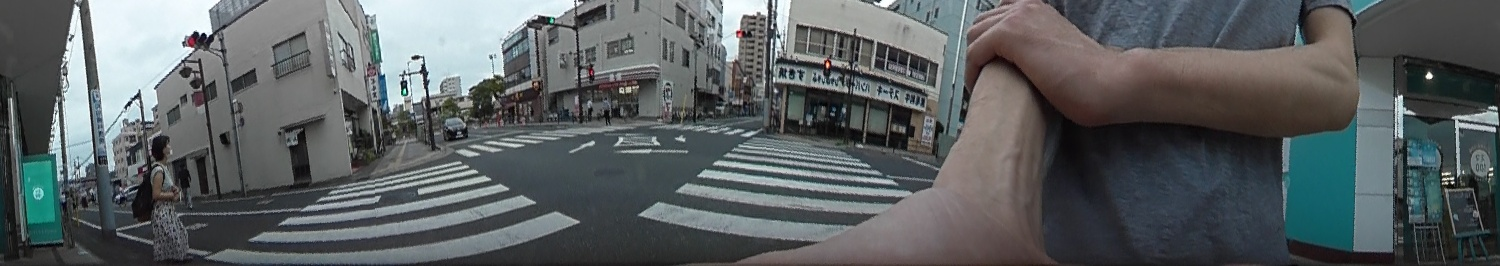difficult_person: (601, 96, 611, 124)
person: (145, 130, 195, 258)
